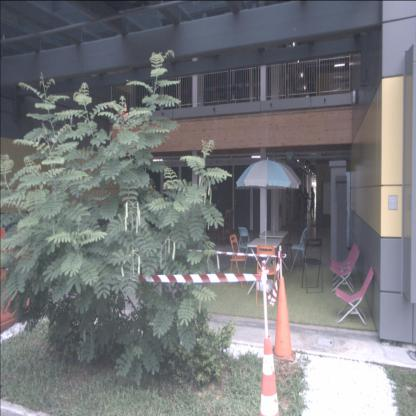cone: (272, 276, 296, 362), (259, 336, 280, 416)
